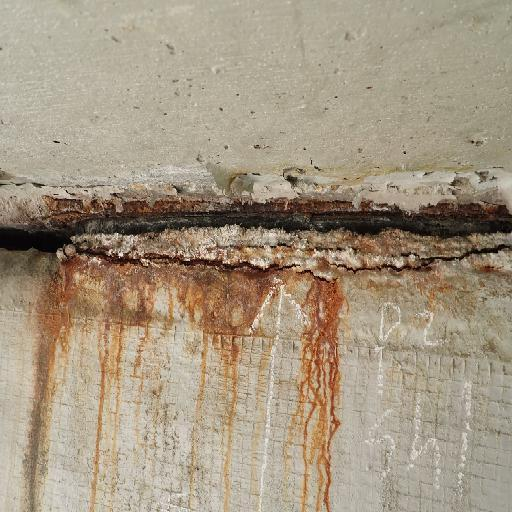exposed_rebar: (42, 196, 512, 242)
